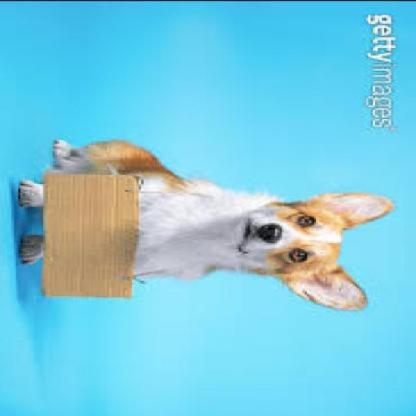dog: (17, 138, 394, 310)
